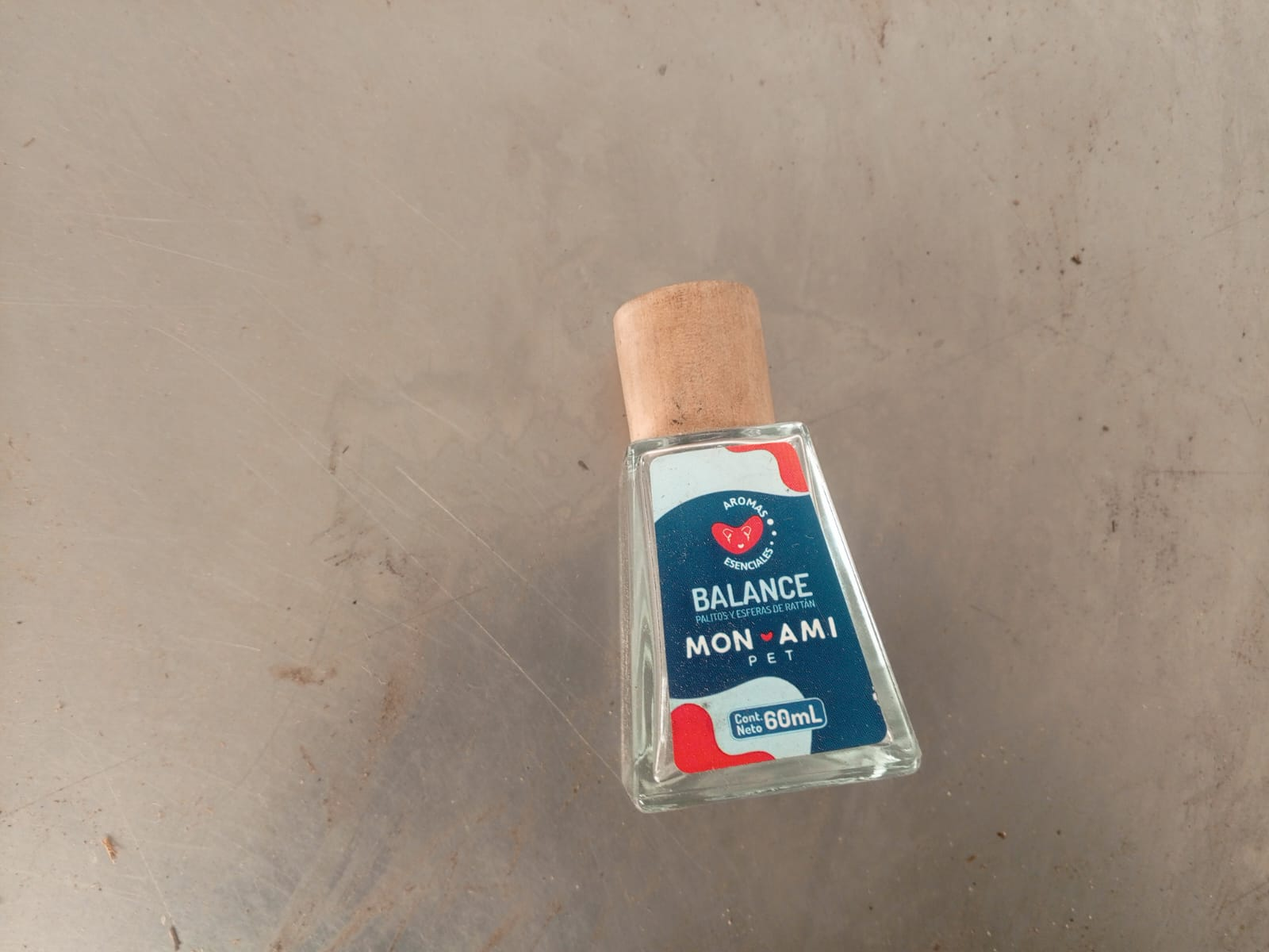Vidrio: (620, 426, 925, 817)
